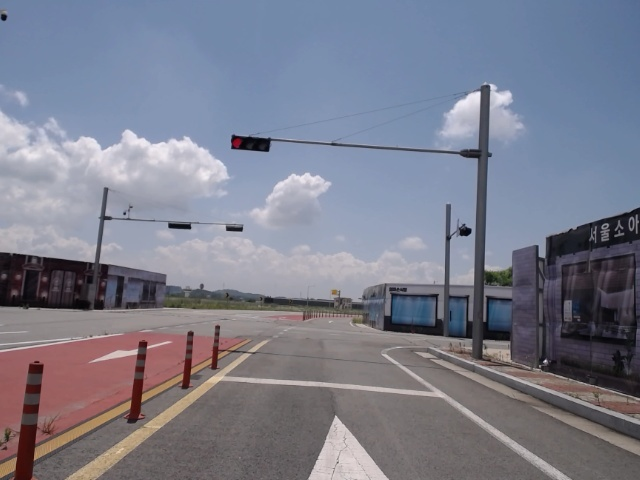red_3: (229, 133, 271, 153)
